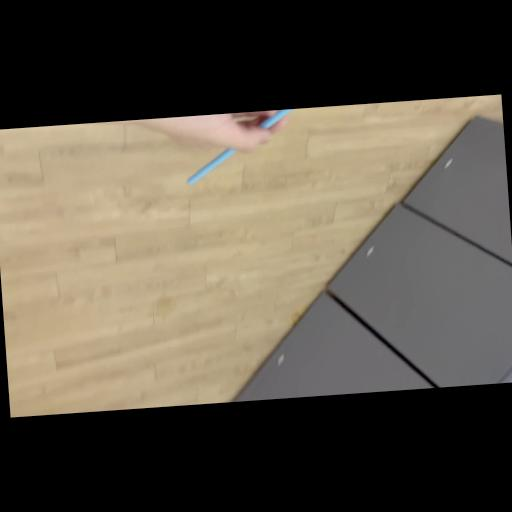straw: (184, 110, 304, 184)
